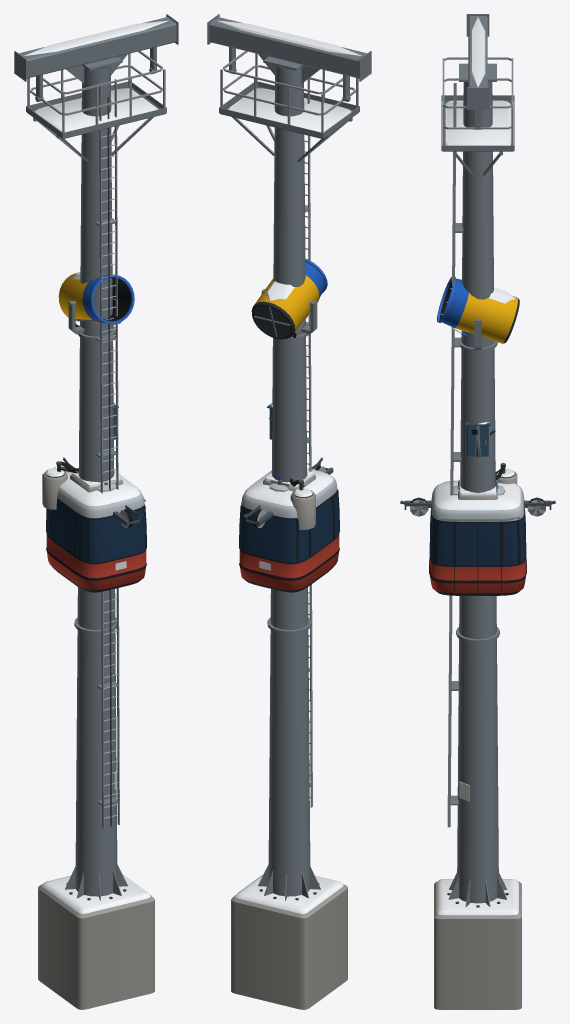
Rendered from lift.glb.
3 renders of one model, left to right at view 1: azimuth 30°, elevation 25°; view 2: azimuth 150°, elevation 25°; view 3: azimuth 270°, elevation 25°, orthographic.
Visible parts, largest first — view 1: lift_tower, lift_cabin, snowgun, lift_cabinGlass, lift_sheaves; view 2: lift_tower, lift_cabin, snowgun, lift_cabinGlass, lift_sheaves; view 3: lift_tower, lift_cabin, snowgun, lift_cabinGlass, lift_sheaves.
Boxes of the visible parts, x1=… form: lift_tower: x1=14, y1=14, x2=178, y2=1009; lift_cabin: x1=46, y1=468, x2=146, y2=592; snowgun: x1=42, y1=272, x2=134, y2=509; lift_cabinGlass: x1=46, y1=500, x2=145, y2=562; lift_sheaves: x1=54, y1=457, x2=142, y2=528; lift_tower: x1=207, y1=14, x2=371, y2=1009; lift_cabin: x1=239, y1=417, x2=339, y2=592; snowgun: x1=251, y1=258, x2=327, y2=529; lift_cabinGlass: x1=240, y1=491, x2=339, y2=562; lift_sheaves: x1=243, y1=457, x2=333, y2=528; lift_tower: x1=434, y1=14, x2=521, y2=1009; lift_cabin: x1=429, y1=429, x2=526, y2=595; snowgun: x1=436, y1=276, x2=519, y2=499; lift_cabinGlass: x1=430, y1=508, x2=525, y2=565; lift_sheaves: x1=400, y1=497, x2=555, y2=516.
Size of the model in its own units: 4.15 by 24.66 by 3.7.
